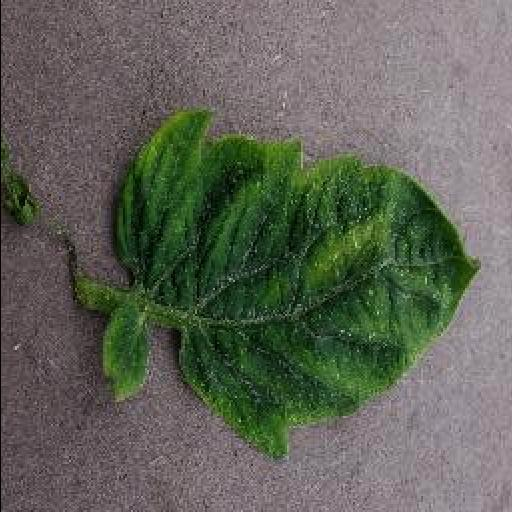disease_tomato: (110, 107, 480, 463)
